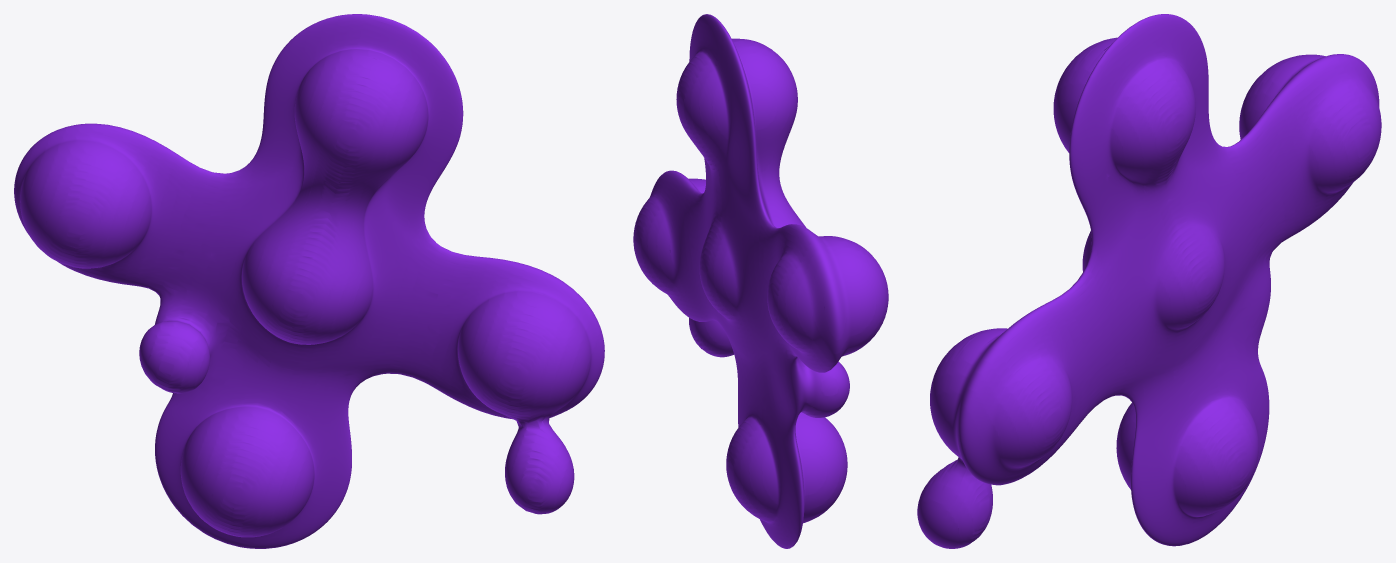
File: Virus08.fbx
3 renders of one model, left to right at view 1: azimuth 30°, elevation 25°; view 2: azimuth 150°, elevation 25°; view 3: azimuth 270°, elevation 25°, orthographic. The views are drawn at different scales.
Visible parts, largest first — view 1: Mball.010; view 2: Mball.010; view 3: Mball.010.
Boxes of the visible parts, x1,y1,x2,y2 form: Mball.010: (14, 14, 604, 548); Mball.010: (633, 14, 888, 548); Mball.010: (917, 14, 1381, 548).
Bounding box in the file's own units: 10.85 × 13.35 × 9.94.
